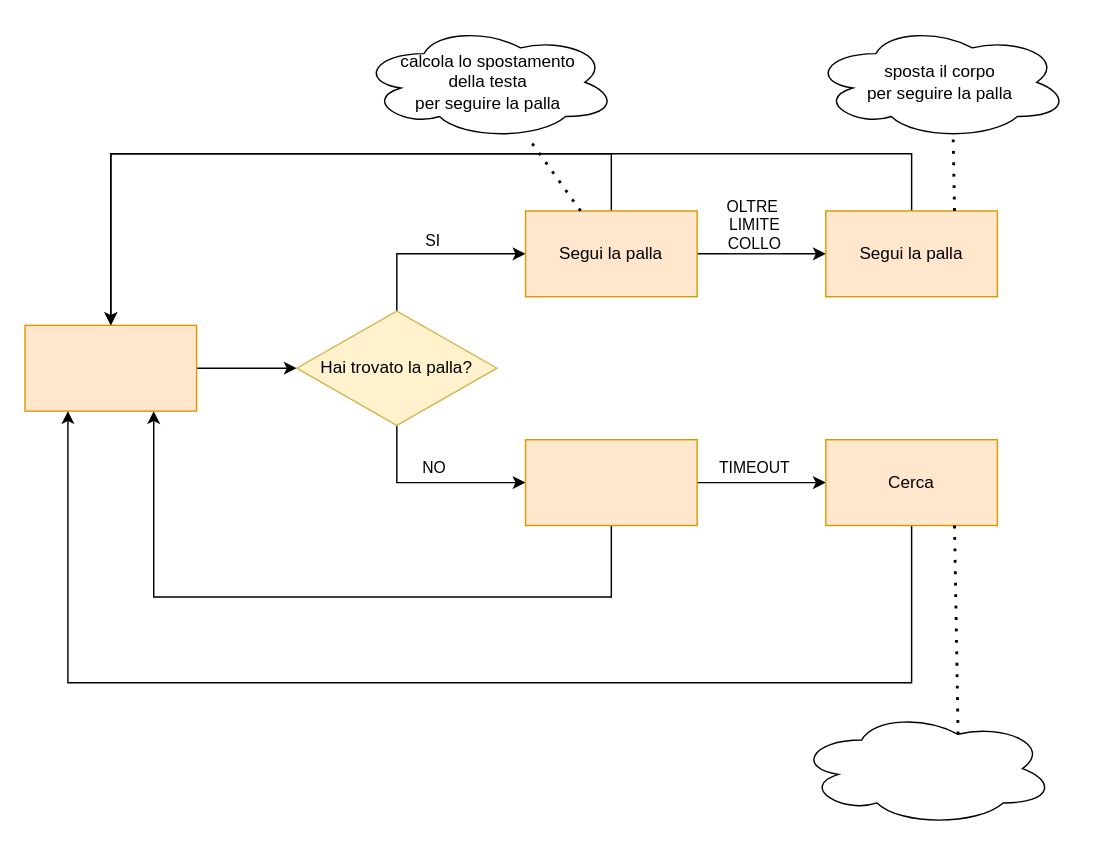
This 1094x851 diagram has some shape labels left out. The centre of each missing label's shape, as x and y in pixels:
Osserva frame: the point at 110,367
Riprova: the point at 610,482
si sposta per cercare la palla intorno: the point at 925,768
